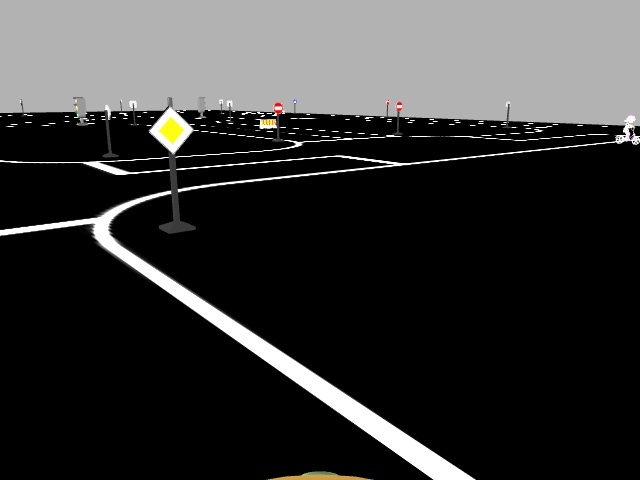ClosedRoadStand: (257, 118, 277, 129)
NoEntry: (271, 102, 284, 115), (393, 101, 405, 112)
Priority: (146, 107, 196, 156)
